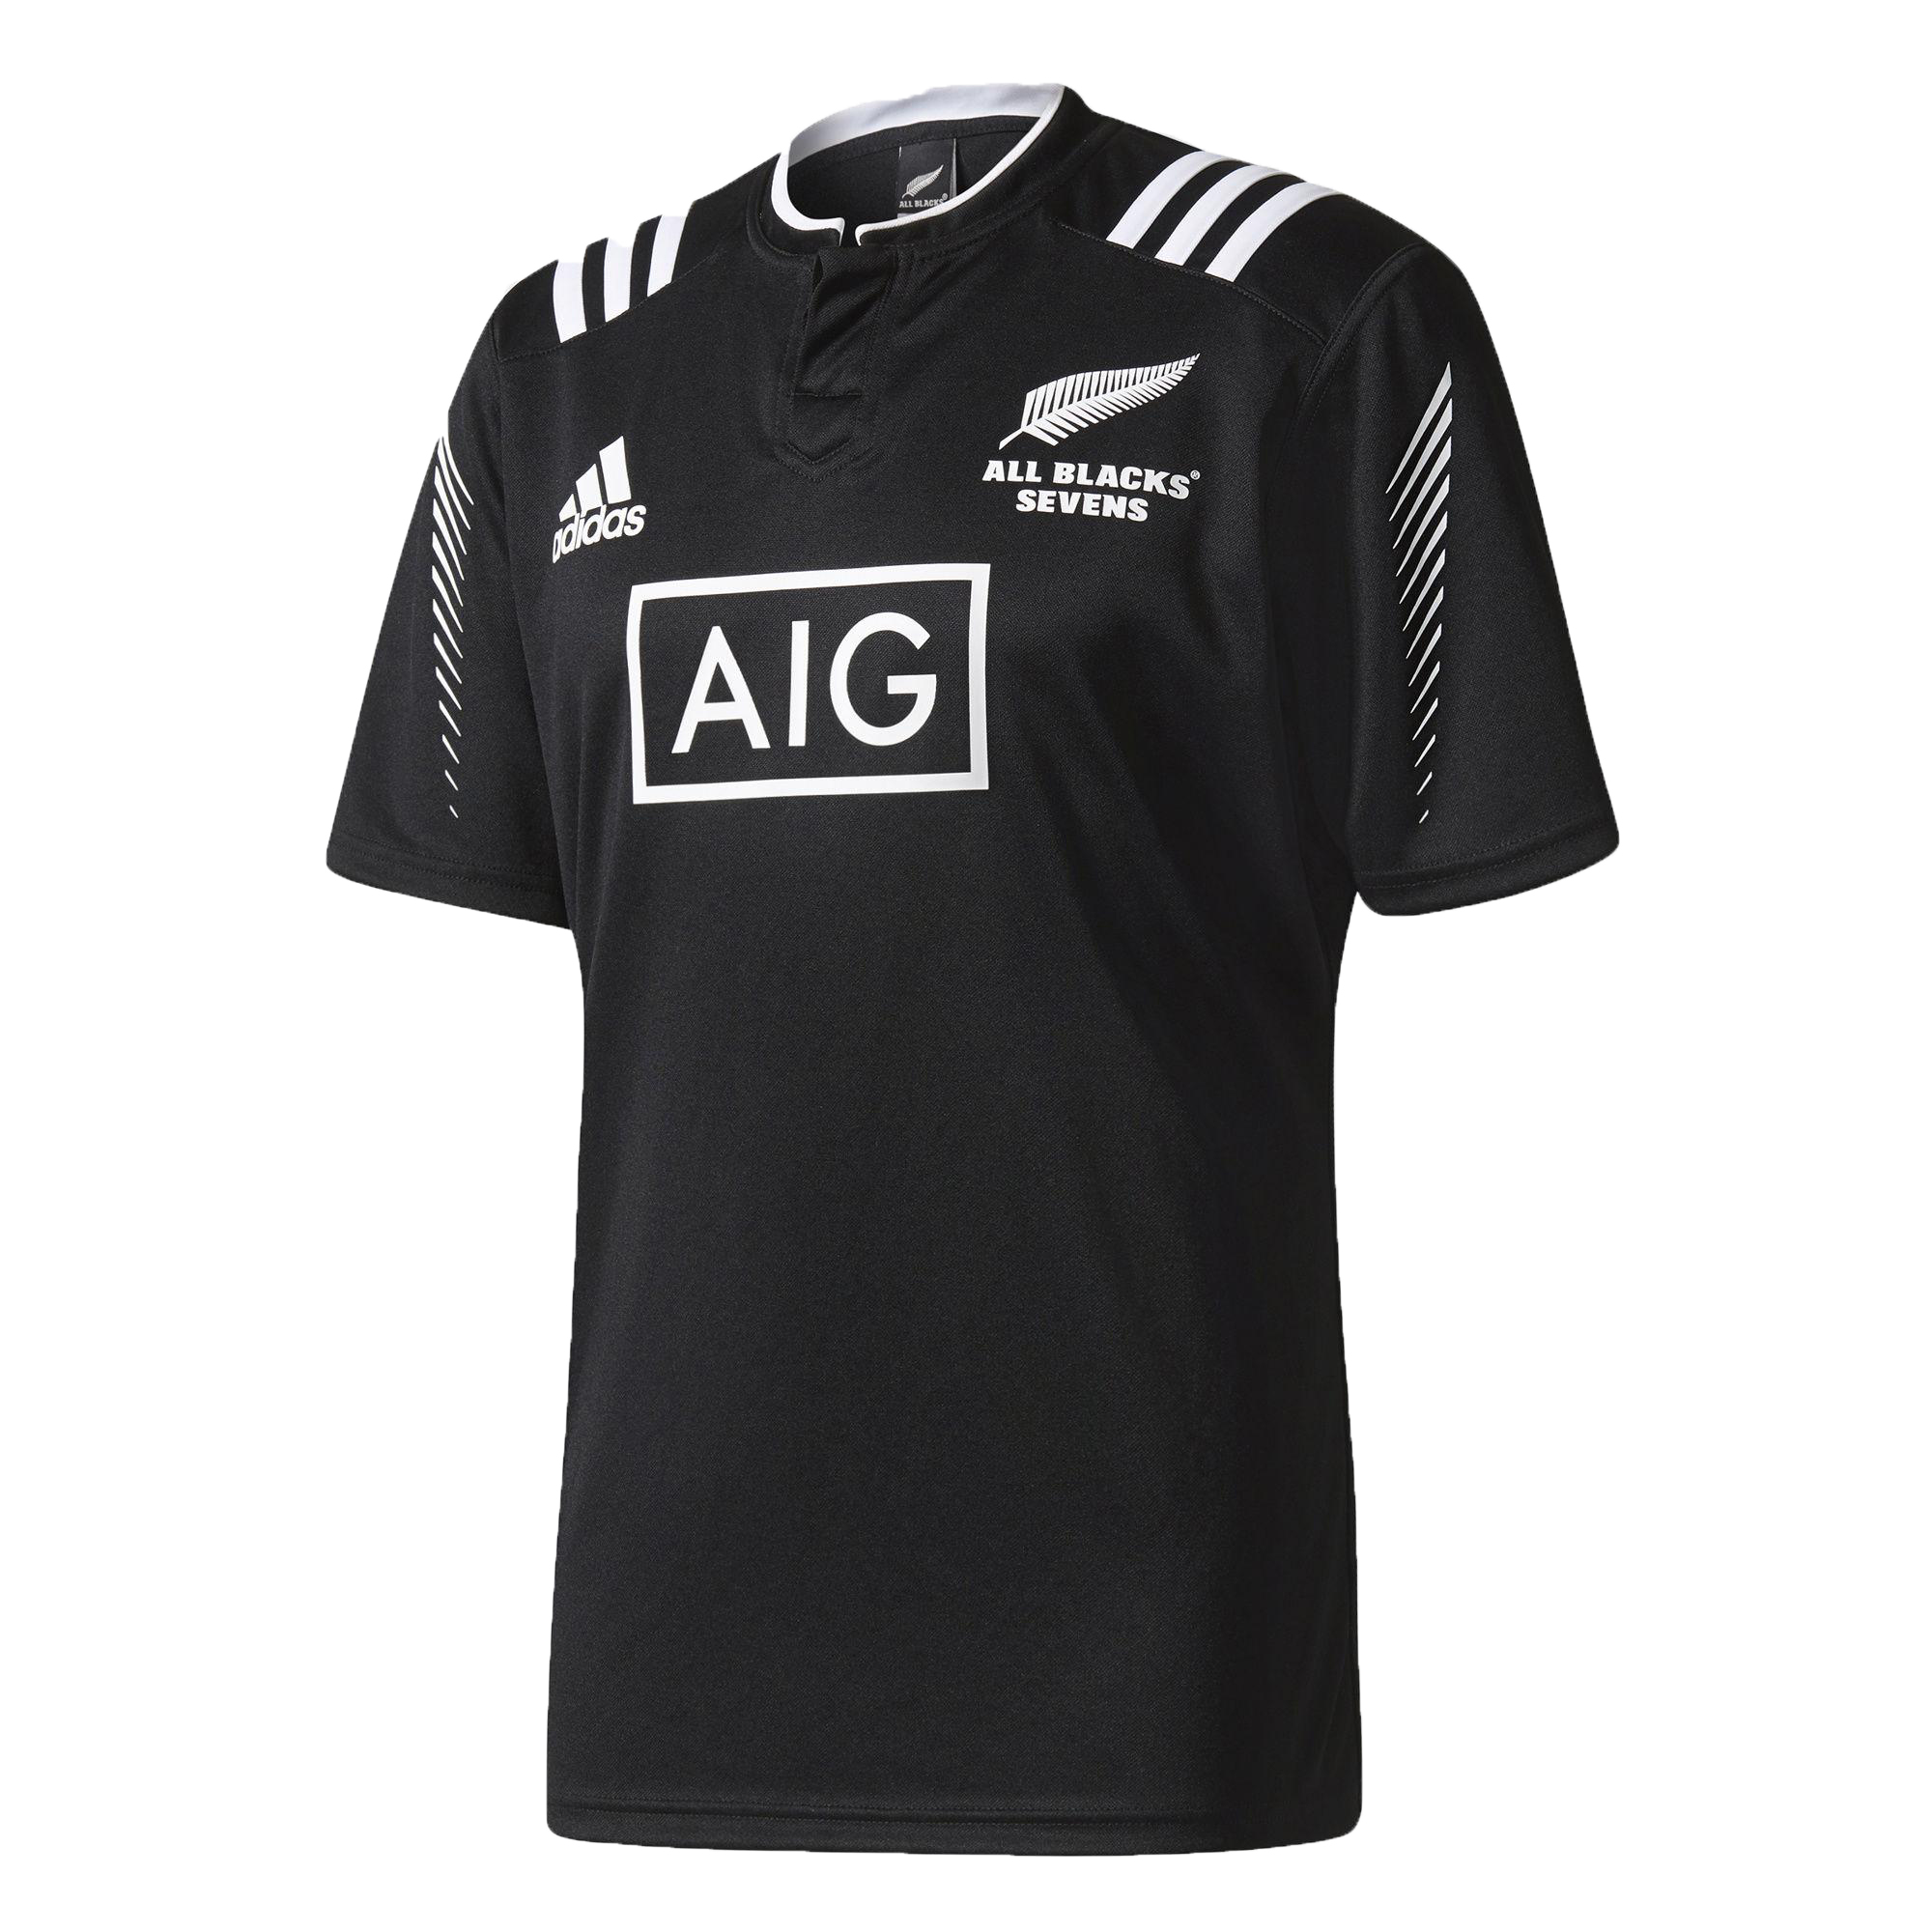teeshirt: (258, 76, 1706, 1863)
